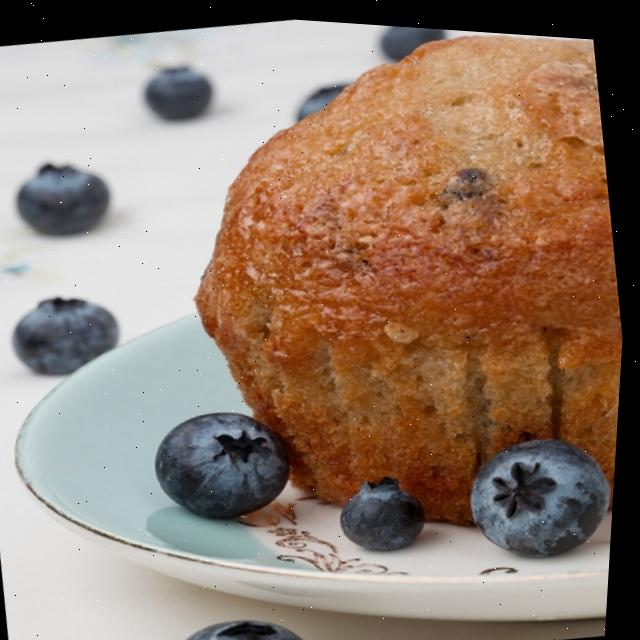炸货点心: (126, 8, 640, 598)
面包点心: (126, 8, 640, 598)
